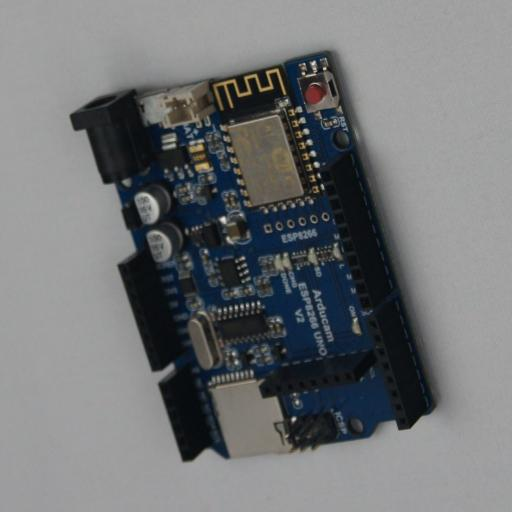Arduino Uno Camera Shield: (70, 50, 440, 462)
